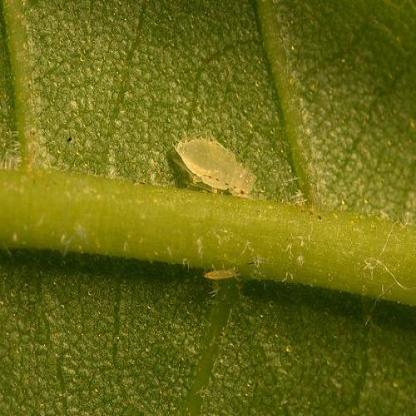aphid: (170, 128, 264, 209), (202, 262, 242, 286)
